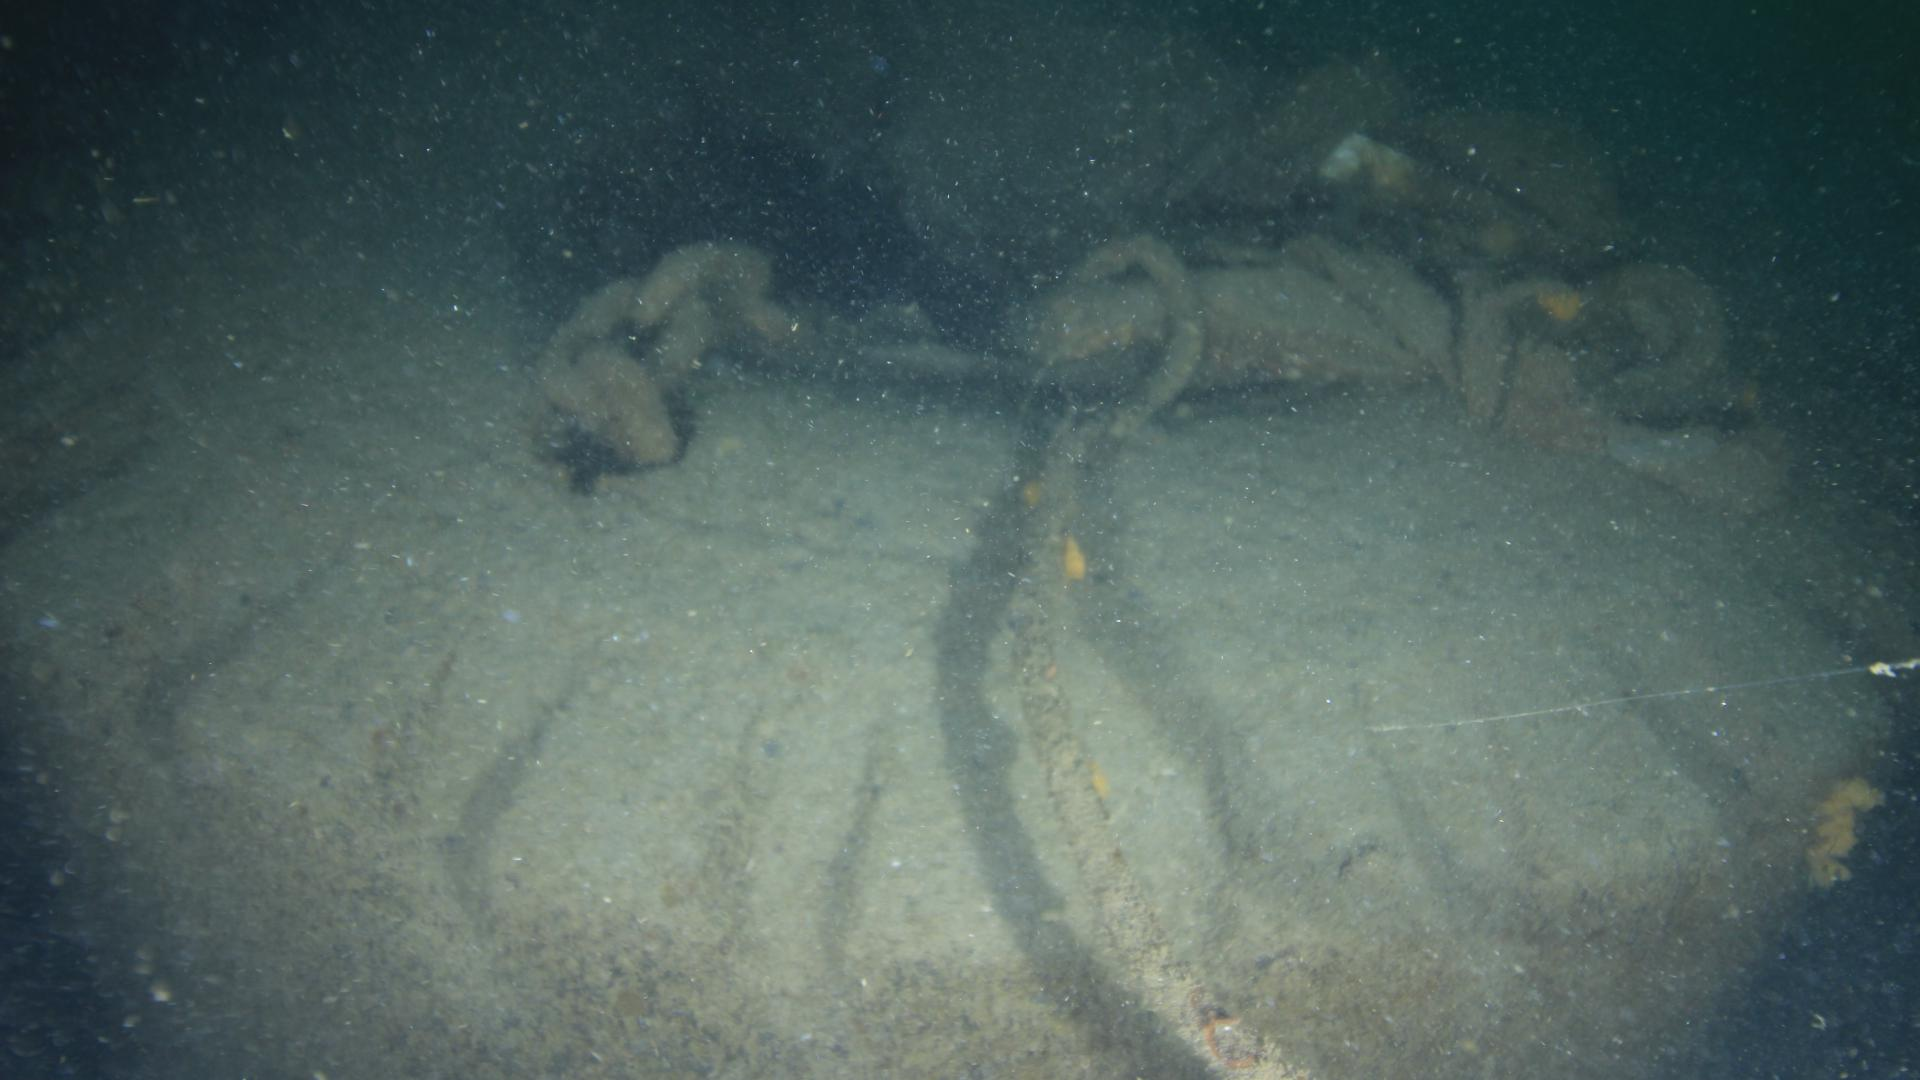rope: (1011, 429, 1323, 1080)
tire: (3, 5, 1920, 1080)
